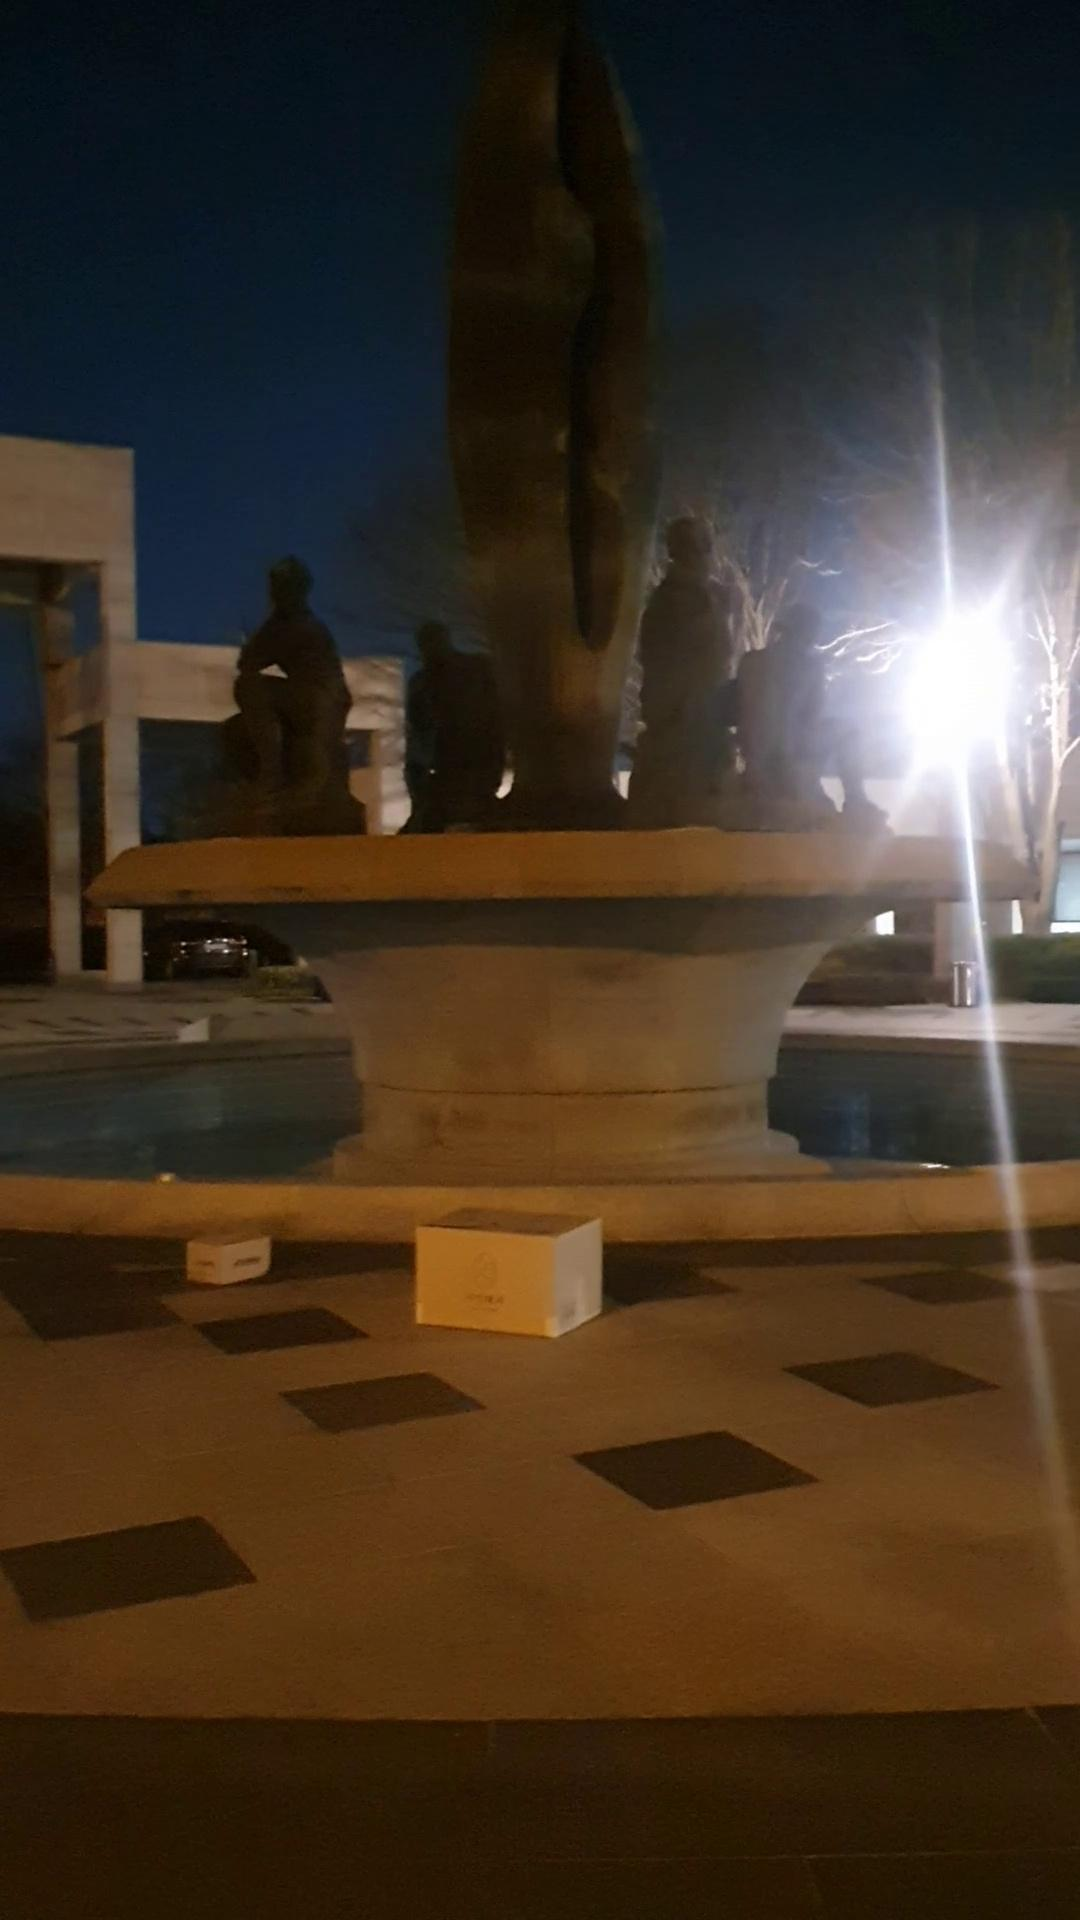Box: (411, 1180, 608, 1346), (189, 1211, 265, 1290)
